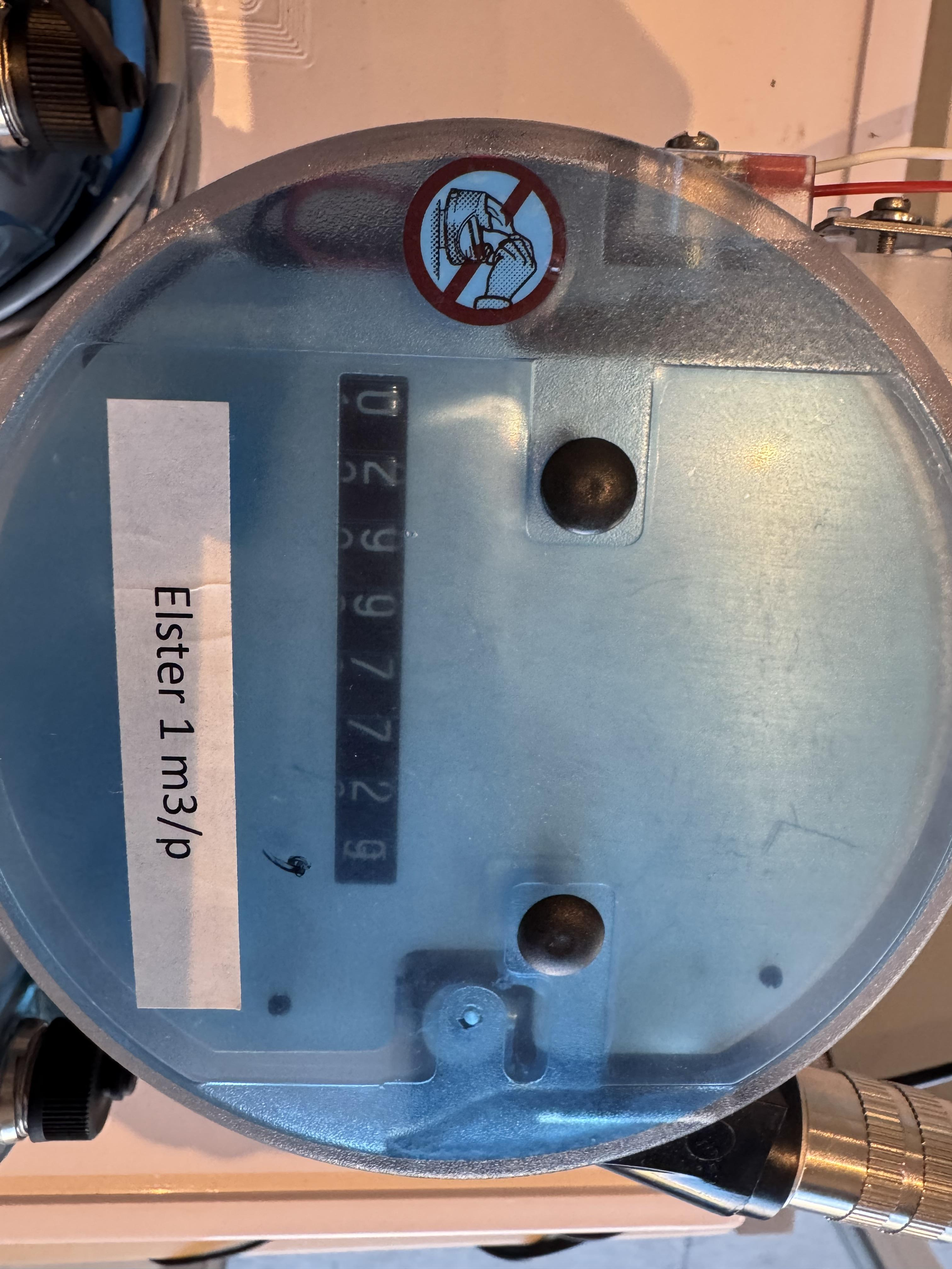analog_dial: (267, 368, 416, 893)
